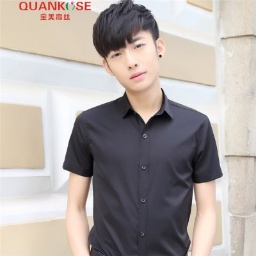face: (91, 1, 168, 96)
